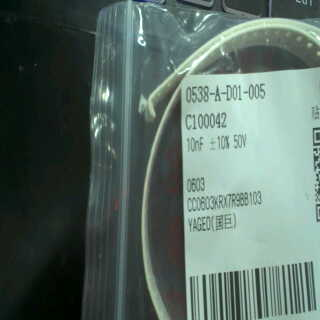10nF: (183, 135, 209, 153)
